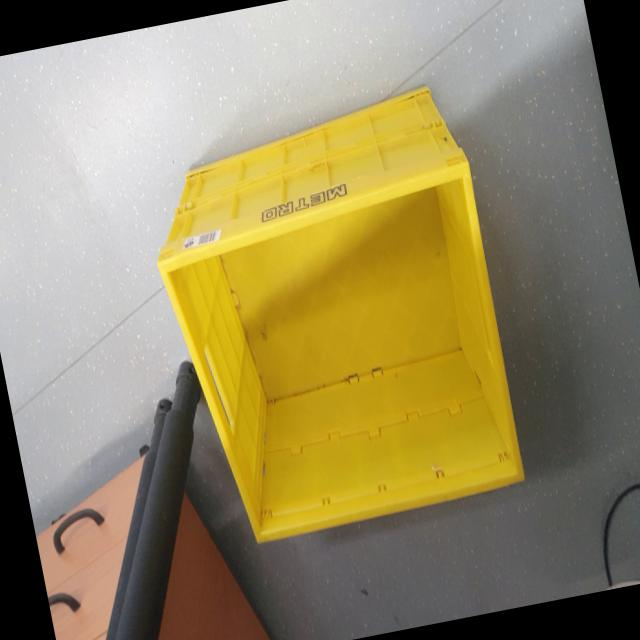box: (128, 64, 563, 558)
